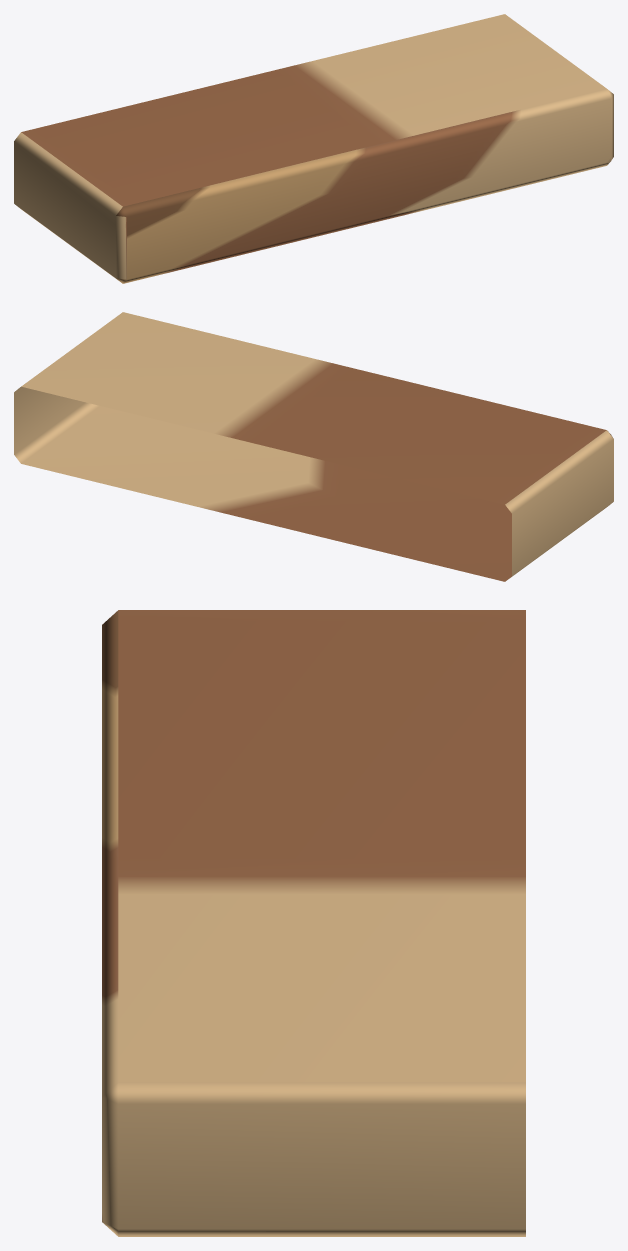
Rendered from DBK_WinSmall_Trim_D_Tile.fbx.
The picture shows the model from 3 angles, top to bottom: view 1: azimuth 30°, elevation 25°; view 2: azimuth 150°, elevation 25°; view 3: azimuth 270°, elevation 25°; orthographic projection. The views are drawn at different scales.
Parts seen in each view (by area): view 1: DBK_WinSmall_Trim_D_Tile; view 2: DBK_WinSmall_Trim_D_Tile; view 3: DBK_WinSmall_Trim_D_Tile.
Part boxes in pixels (x1,y1,x2,y2): DBK_WinSmall_Trim_D_Tile: (14, 14, 613, 283); DBK_WinSmall_Trim_D_Tile: (14, 312, 613, 581); DBK_WinSmall_Trim_D_Tile: (102, 610, 525, 1236).
Bounding box in the file's own units: 63.78 × 9.45 × 23.51.
